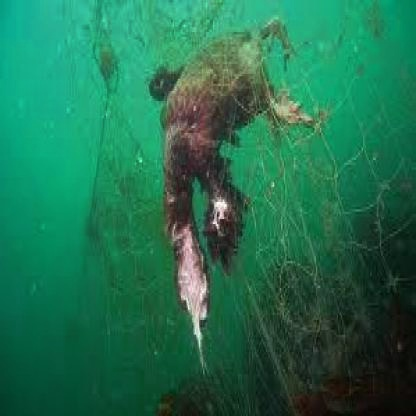net: (235, 0, 416, 416)
